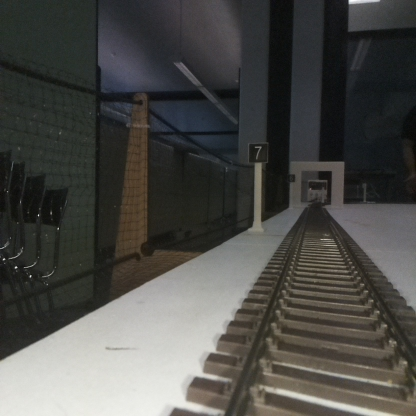black-info-7: (248, 143, 267, 230)
